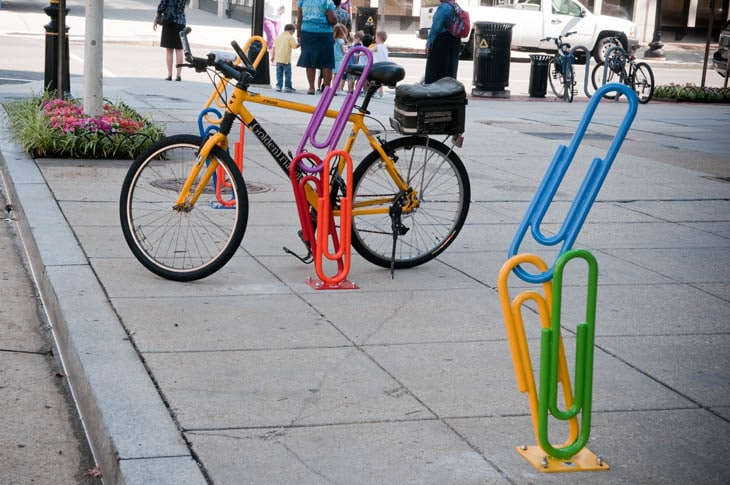Bicycle: (119, 45, 478, 286)
